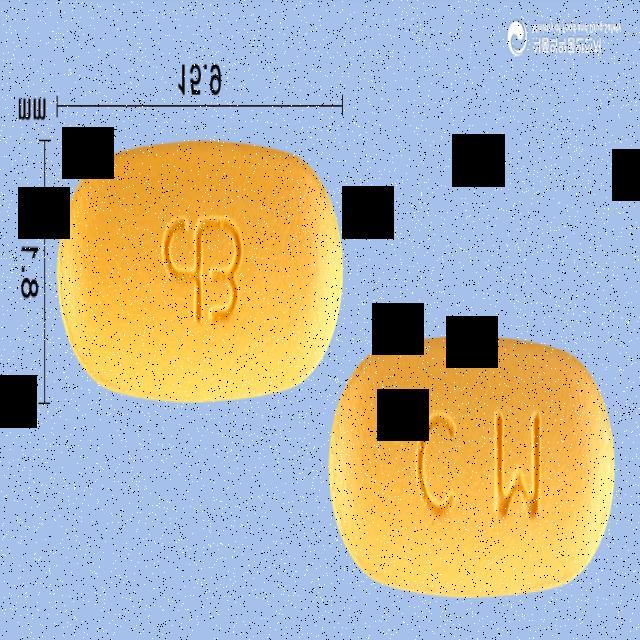Claridon: (54, 134, 346, 412), (326, 328, 618, 604)
